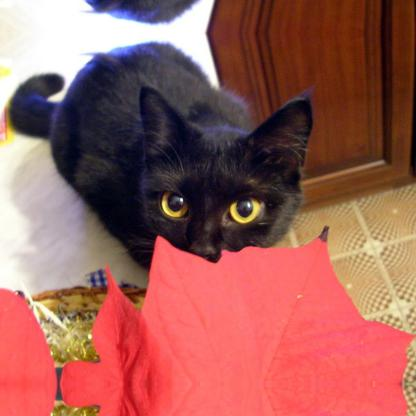Cat: (7, 37, 316, 272)
